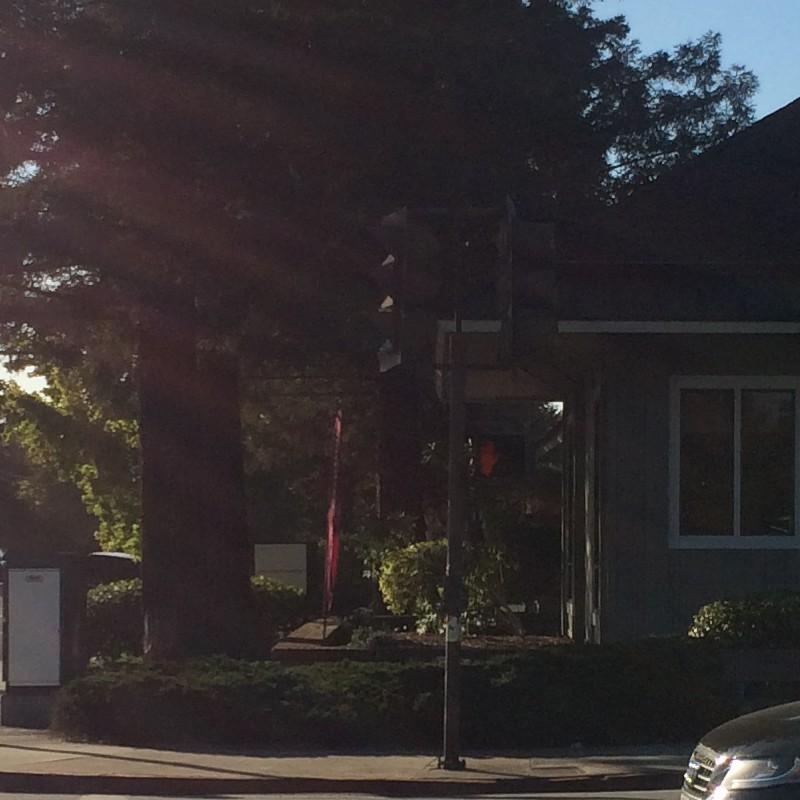stop: (472, 433, 531, 486)
